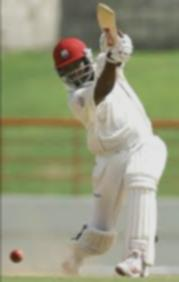batsman: (44, 10, 168, 282)
